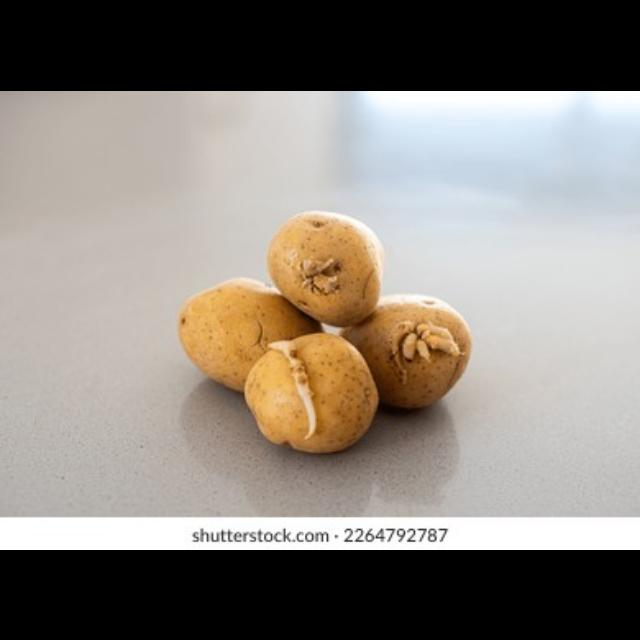Sprouted potato: (176, 272, 338, 396), (237, 328, 386, 460), (334, 285, 478, 421), (266, 205, 386, 328)
